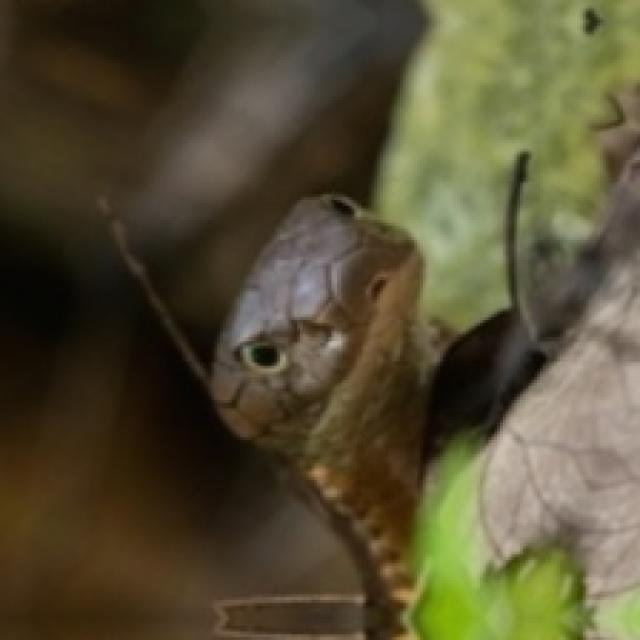king cobra: (209, 198, 429, 639)
